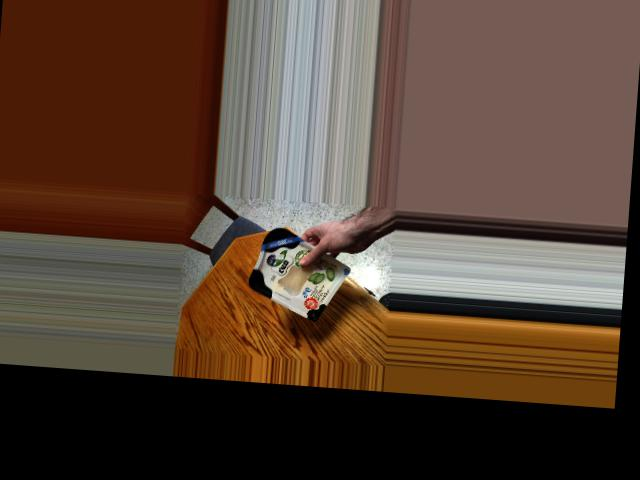cheese: (246, 220, 343, 318)
